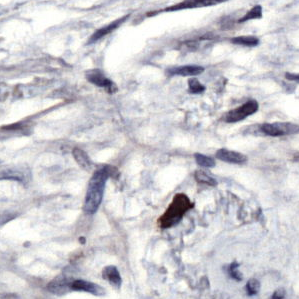Lymphocyte: (158, 193, 195, 229)
